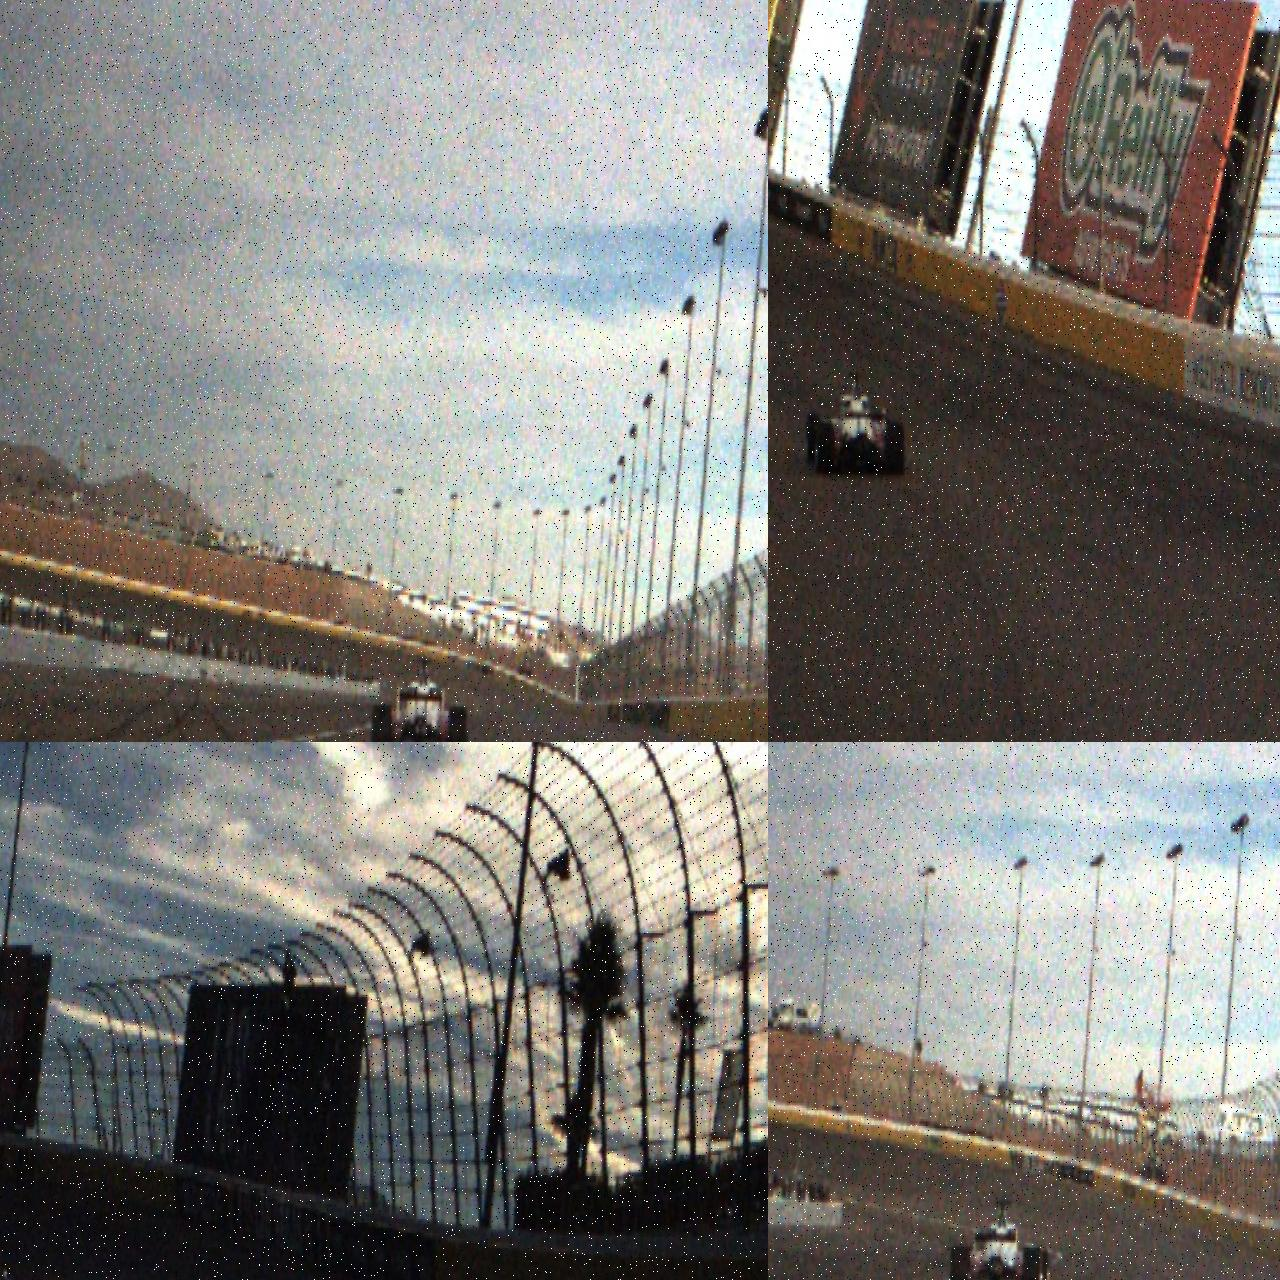AV: (805, 370, 907, 478), (370, 657, 469, 742), (950, 1199, 1051, 1280)
Wheel: (886, 422, 906, 476), (816, 422, 834, 476), (371, 703, 393, 742), (805, 412, 820, 466), (448, 705, 469, 742), (950, 1245, 969, 1280), (1022, 1247, 1042, 1280), (1036, 1250, 1049, 1280)
